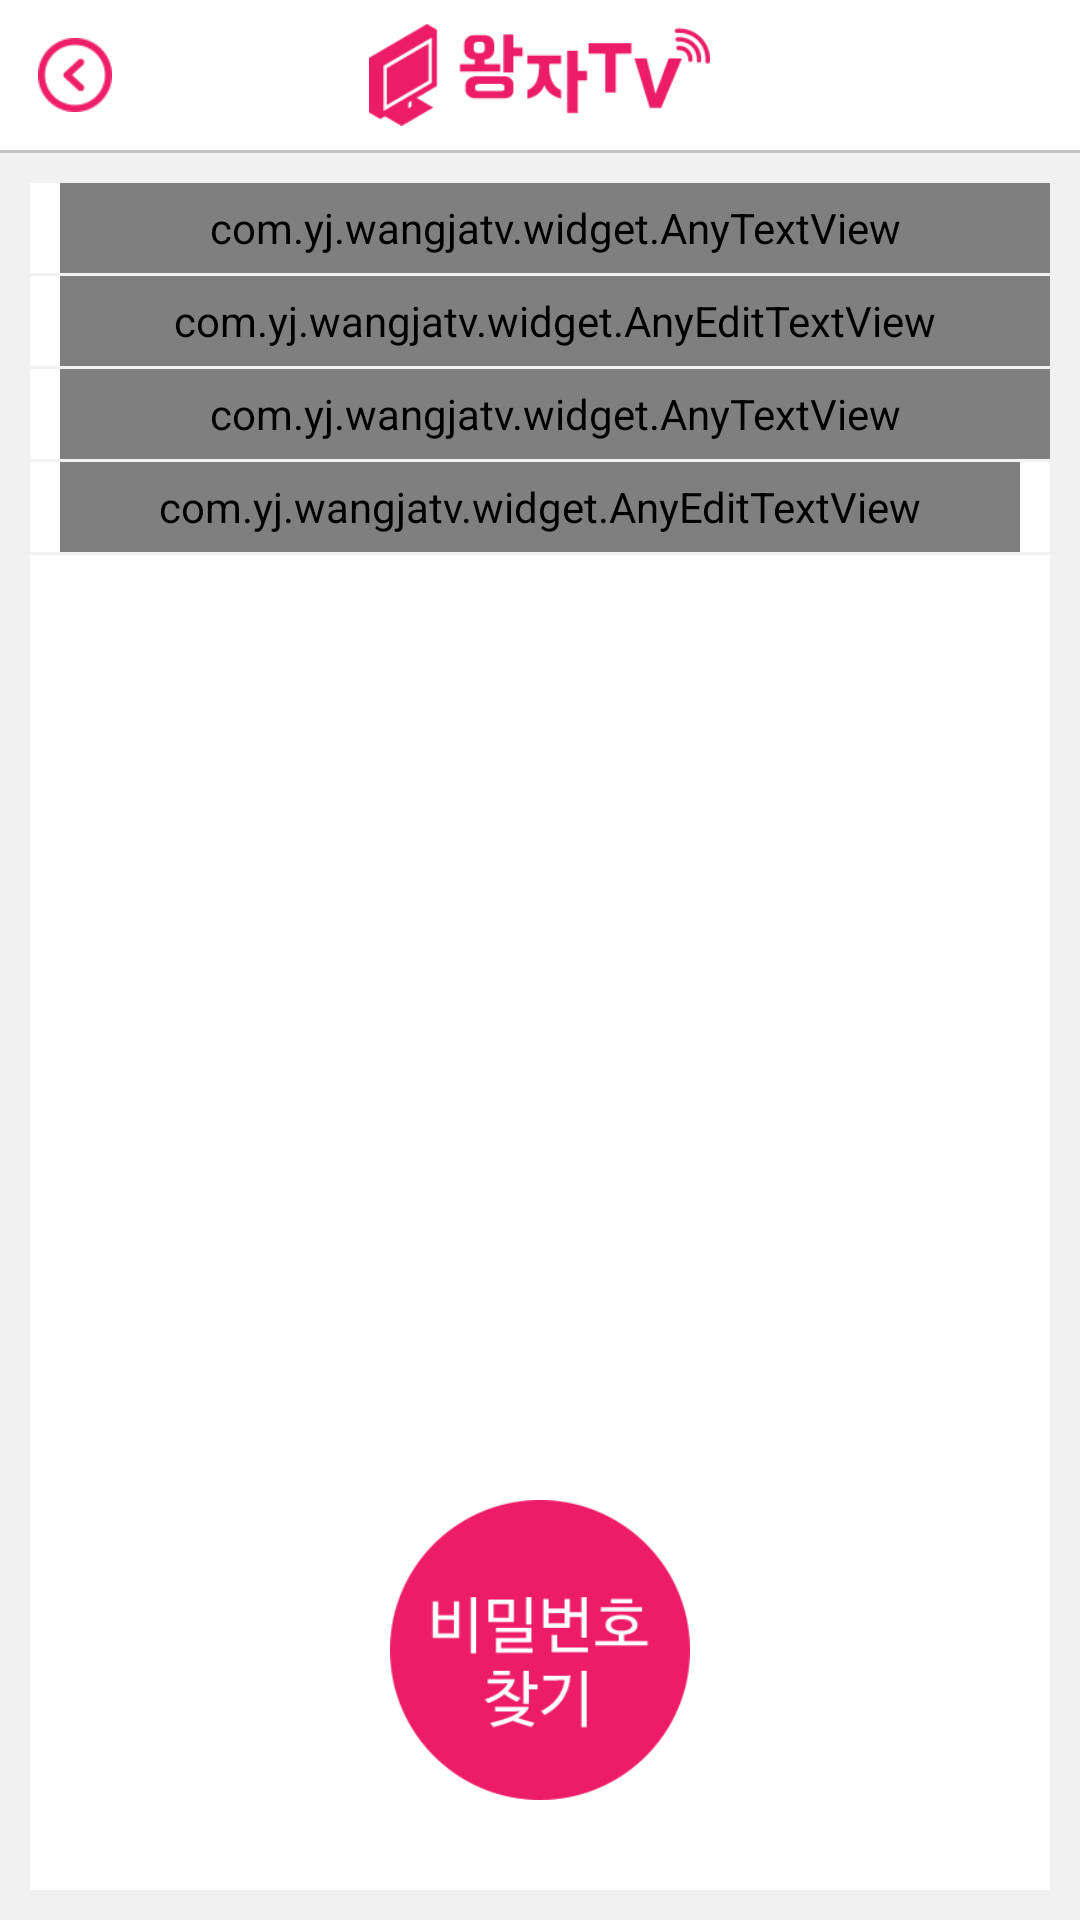

Where to tap for icons on this 1080px x 1920px app screen, as [x,y]:
back on: [75,75]
